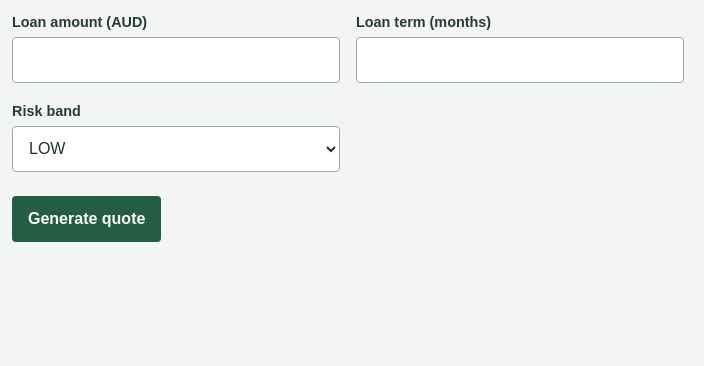
Test case: LoanQuoteForm › submits the typed request and reports the generated quote
Step 1. Type "500000" into the number field labelled "Loan amount (AUD)" → (176, 60), box [12,37,340,83]
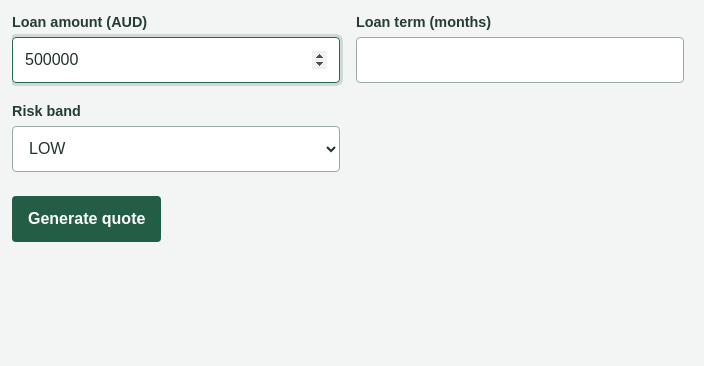
Step 2. Type "360" into the number field labelled "Loan term (months)" → (520, 60), box [356,37,684,83]
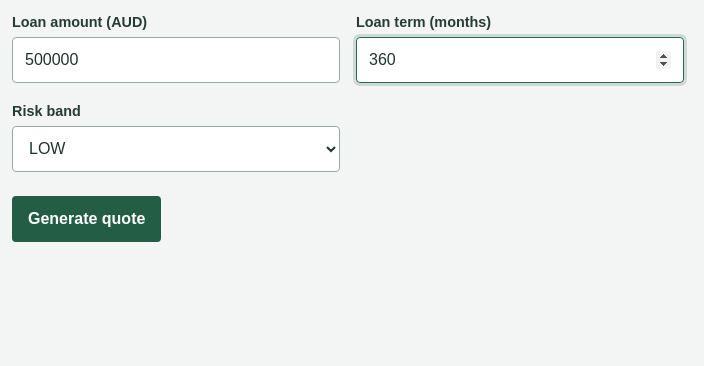
Step 3. Select "MEDIUM" in the dropdown labelled "Risk band" → (176, 149), box [12,126,340,172]
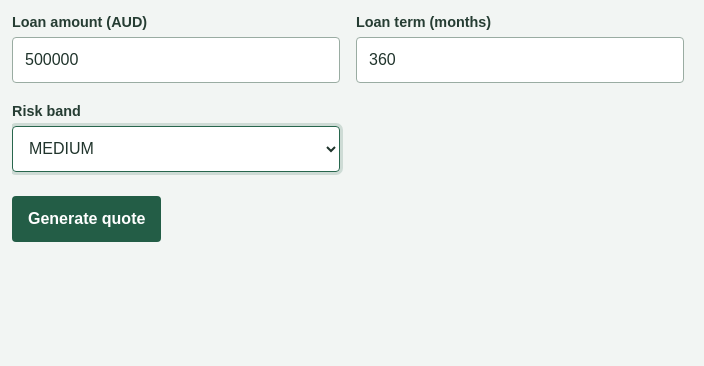
Step 4. Click the button "Generate quote" → (87, 219), box [12,196,161,242]
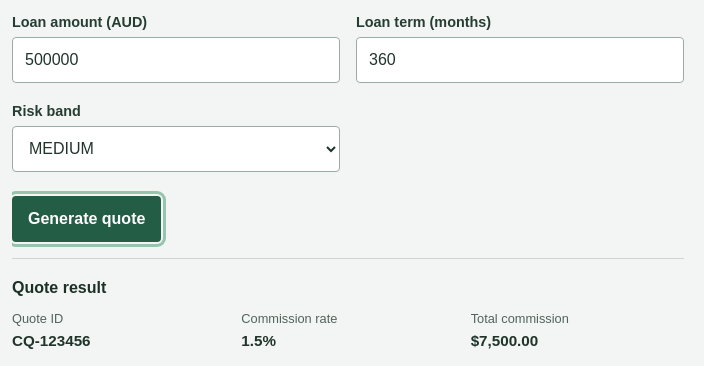
Expected: the element "Quote result" shows "CQ-123456", [12,332,90,349]
